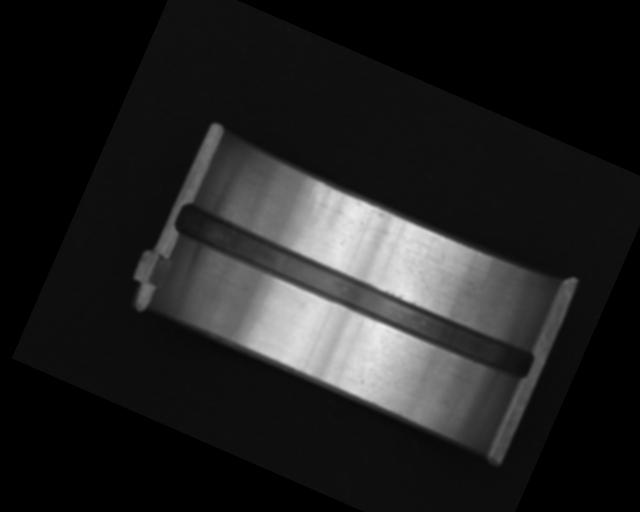gap: (168, 196, 539, 386)
